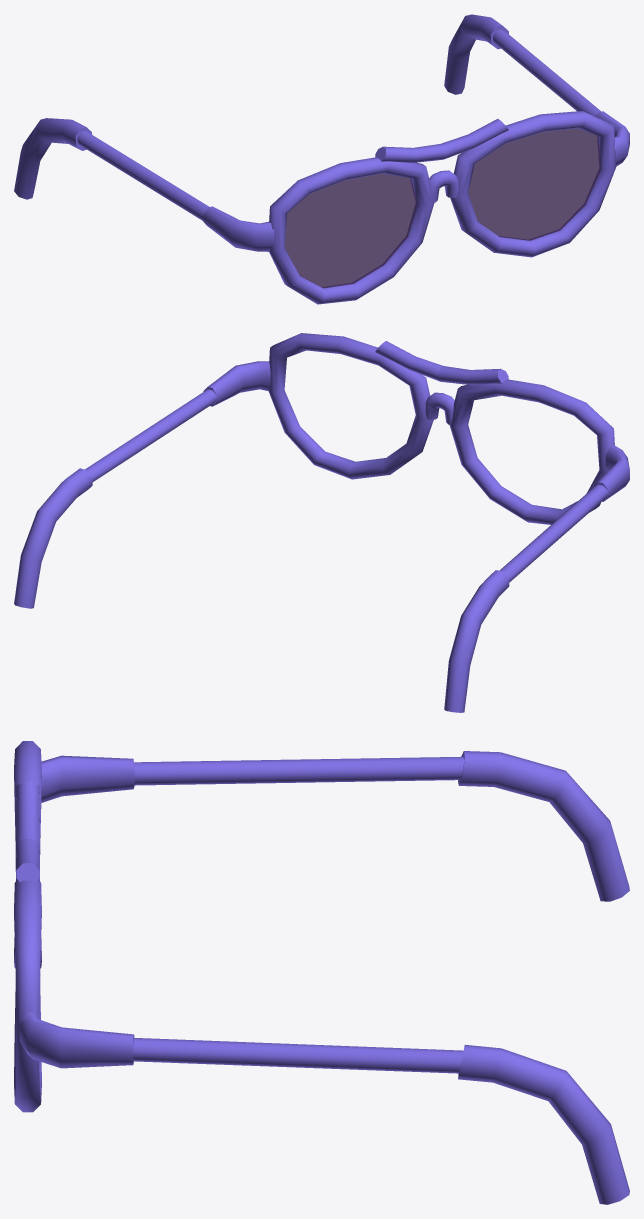
Rendered from Glasses.fbx.
3 renders of one model, top to bottom at view 1: azimuth 30°, elevation 25°; view 2: azimuth 150°, elevation 25°; view 3: azimuth 270°, elevation 25°, orthographic. The views are drawn at different scales.
Parts seen in each view (by area): view 1: Glasses; view 2: Glasses; view 3: Glasses.
Part boxes in pixels (<box>): Glasses: <box>14,14,629,304</box>; Glasses: <box>14,333,629,712</box>; Glasses: <box>14,741,629,1204</box>.
Size of the model in its own units: 2.74 by 0.9223 by 2.26.
